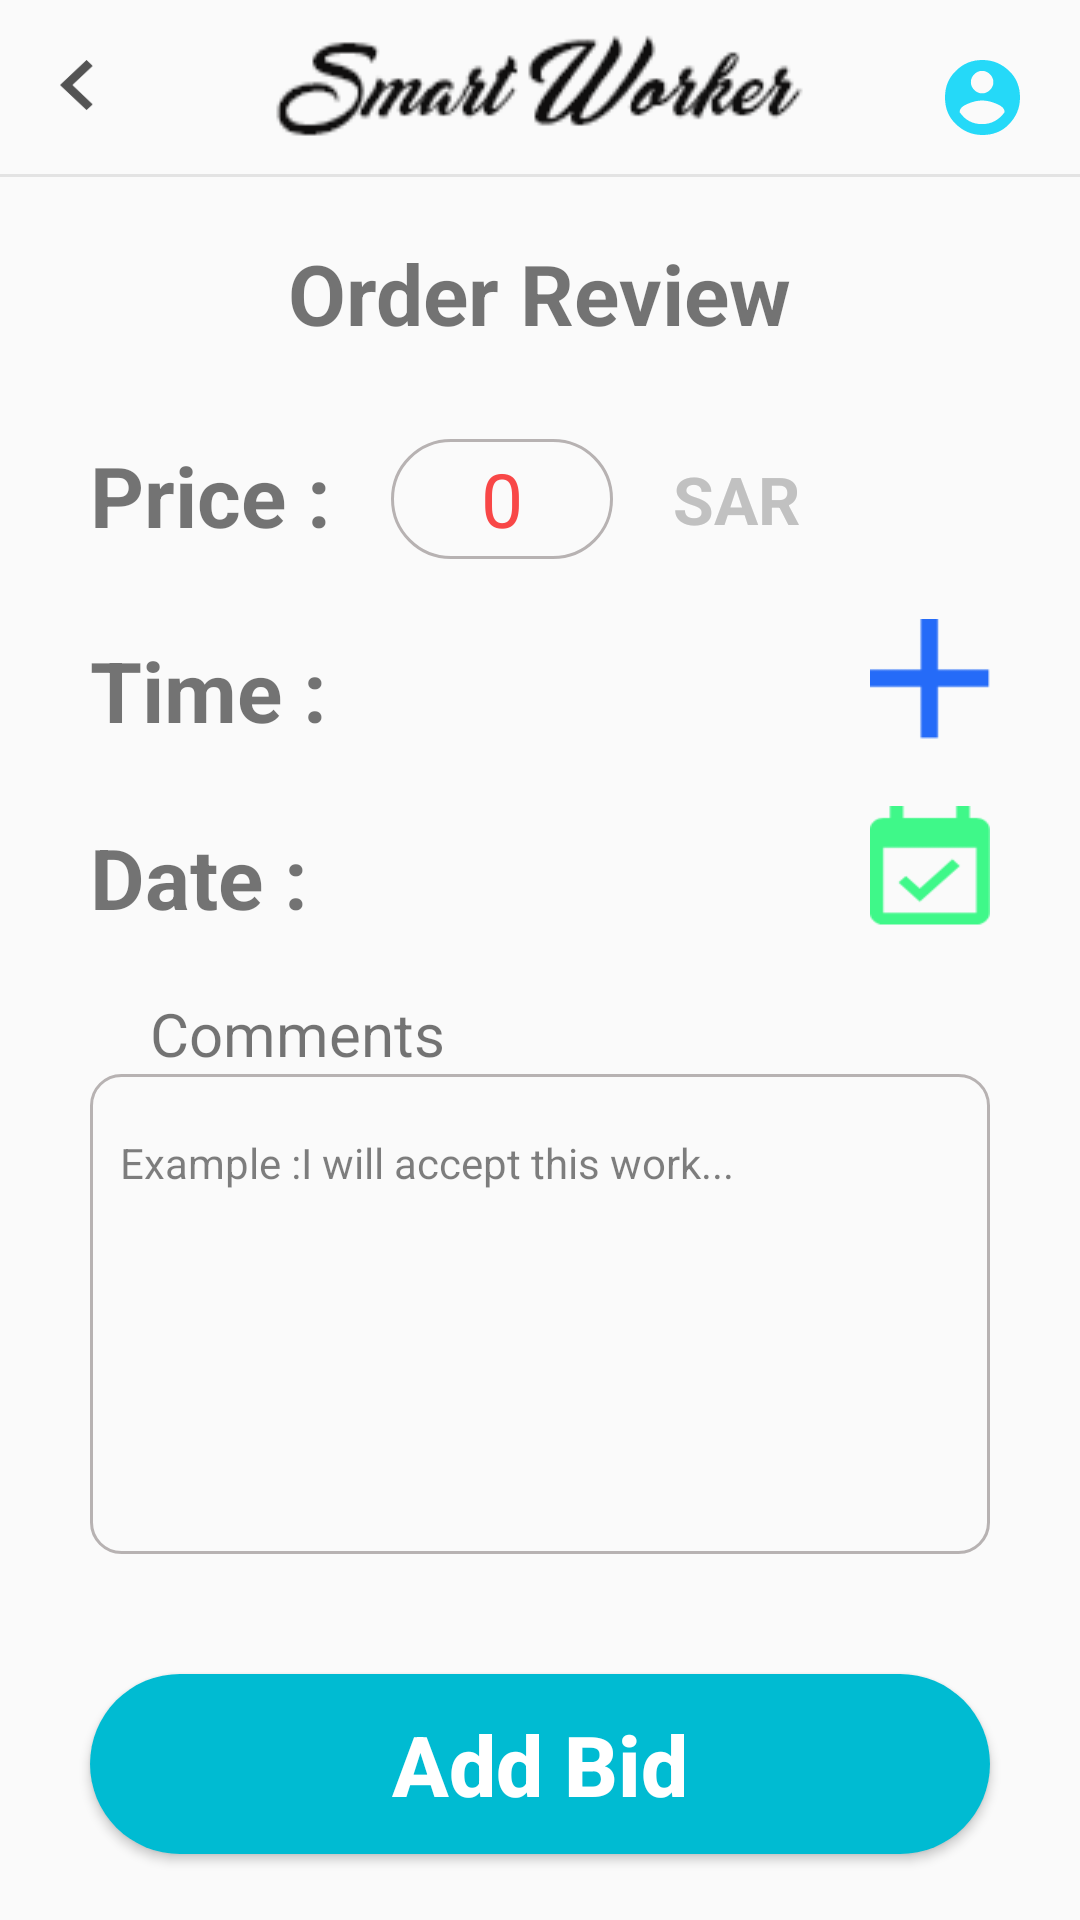

Point at icon controls on the screen. Image size 1080 x 1920, points as (x=x, y=y).
back: (x=76, y=85)
calender: (x=930, y=865)
plus: (x=930, y=679)
profile blou: (x=982, y=97)
